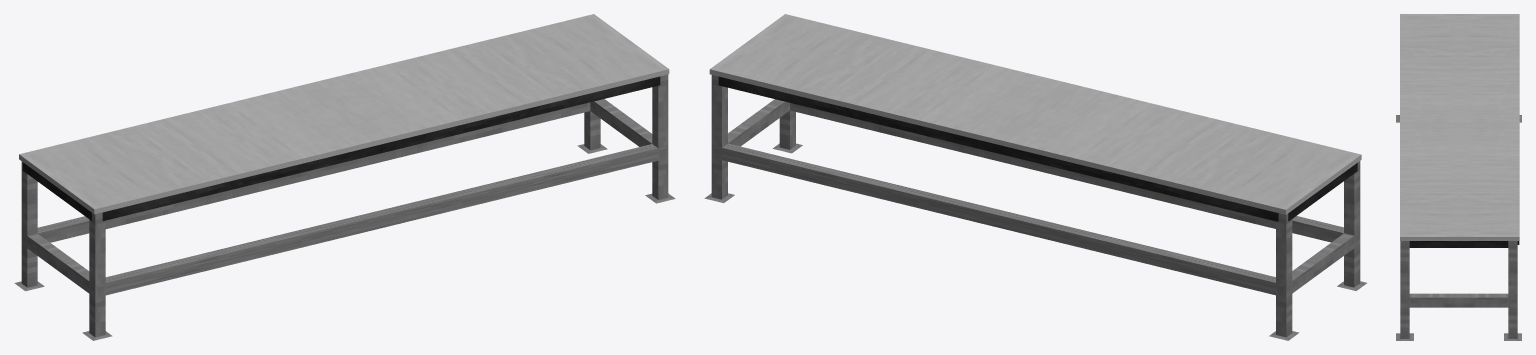
Rendered from big_table.fbx.
The picture shows the model from 3 angles, left to right: view 1: azimuth 30°, elevation 25°; view 2: azimuth 150°, elevation 25°; view 3: azimuth 270°, elevation 25°; orthographic projection. The views are drawn at different scales.
Visible parts, largest first — view 1: Cube, Cube_002, Cube_001; view 2: Cube, Cube_002, Cube_001; view 3: Cube, Cube_002, Cube_001.
Boxes of the visible parts, x1,y1,x2,y2 form: Cube: (19, 14, 669, 214); Cube_002: (14, 74, 675, 340); Cube_001: (23, 76, 660, 220); Cube: (709, 14, 1361, 214); Cube_002: (704, 75, 1366, 340); Cube_001: (718, 76, 1357, 221); Cube: (1400, 14, 1519, 240); Cube_002: (1396, 115, 1521, 340); Cube_001: (1409, 241, 1519, 247).
Bounding box in the file's own units: 439 × 92.78 × 103.
